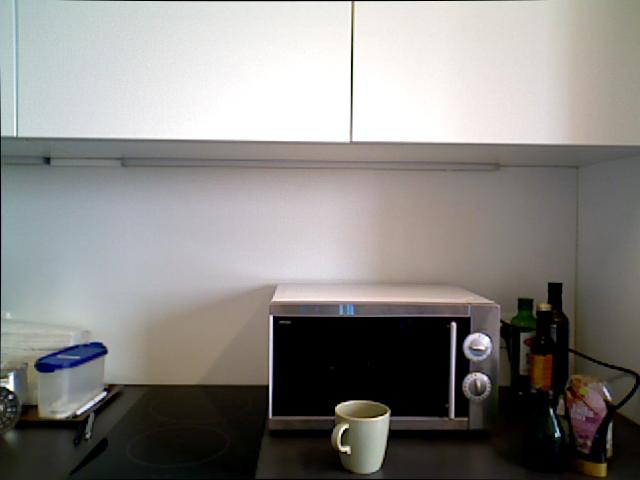bench: (562, 371, 617, 480), (508, 297, 536, 411), (546, 281, 569, 411), (529, 302, 556, 410)
handbag: (330, 399, 390, 474)
knife: (267, 282, 500, 432)
